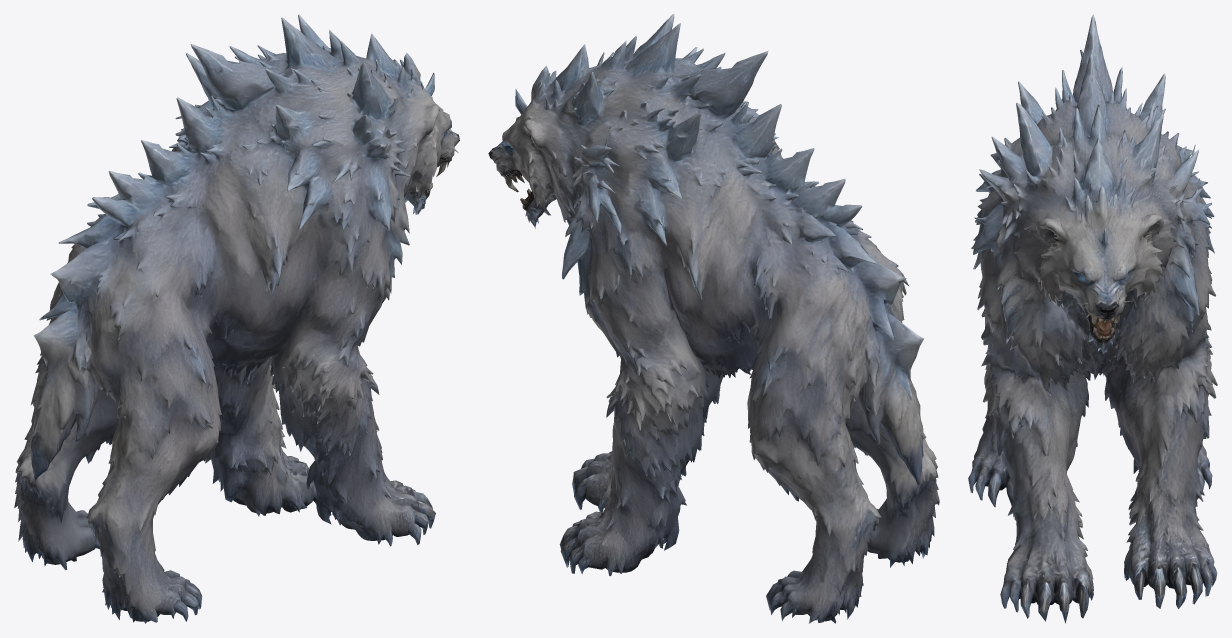
File: bear-tripo.glb
The picture shows the model from 3 angles, left to right: view 1: azimuth 30°, elevation 25°; view 2: azimuth 150°, elevation 25°; view 3: azimuth 270°, elevation 25°; orthographic projection.
Parts seen in each view (by area): view 1: tripo_node_d1679ffc-0a9c-46de-8307-fa4f469c824a; view 2: tripo_node_d1679ffc-0a9c-46de-8307-fa4f469c824a; view 3: tripo_node_d1679ffc-0a9c-46de-8307-fa4f469c824a.
Boxes of the visible parts, box(x1,y1,x2,y2) form: tripo_node_d1679ffc-0a9c-46de-8307-fa4f469c824a: box(14, 14, 459, 623); tripo_node_d1679ffc-0a9c-46de-8307-fa4f469c824a: box(488, 14, 939, 623); tripo_node_d1679ffc-0a9c-46de-8307-fa4f469c824a: box(968, 14, 1217, 623).
Bounding box in the file's own units: 0.8562 × 1 × 0.4338.
1 material, 1 textured.
